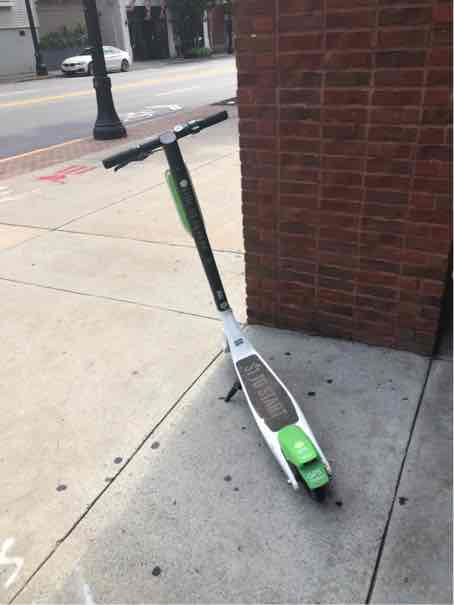scooter: (90, 99, 352, 507)
